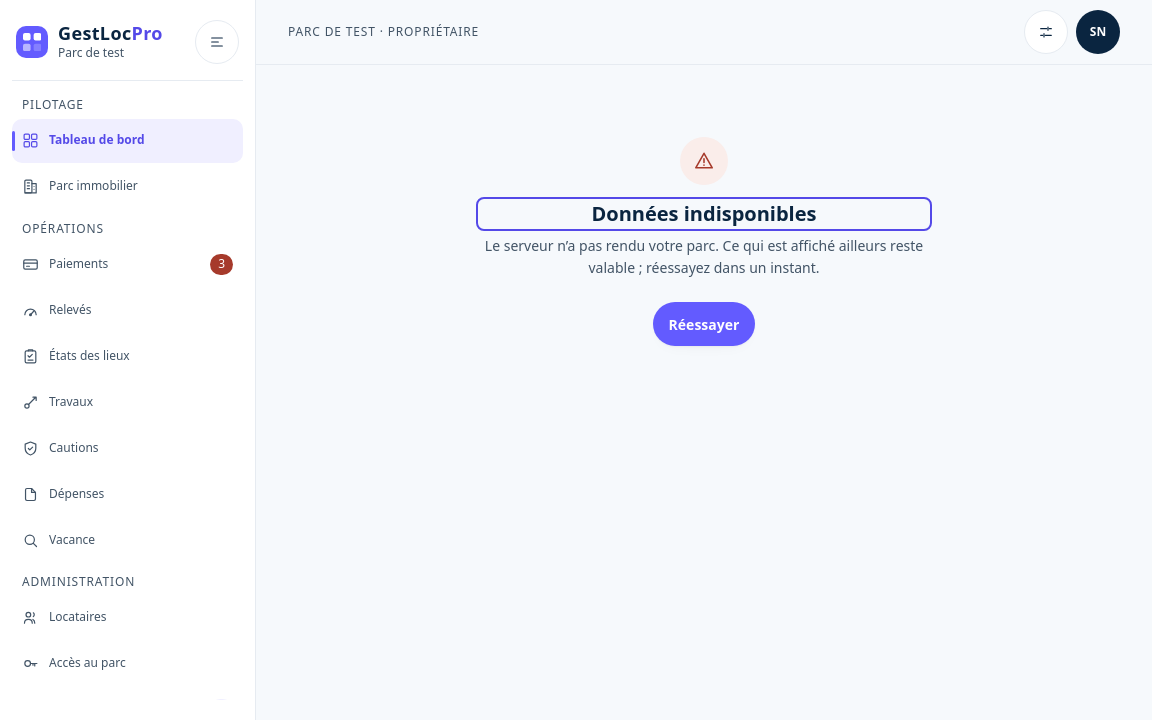
un échec pendant l’usage a un état terminal › la reprise RELANCE une vraie lecture, et aboutit
Expected: the heading "Données indisponibles" is shown, [592,200,816,227]
Click the button "Réessayer" at (704, 324), box [653,302,755,346]
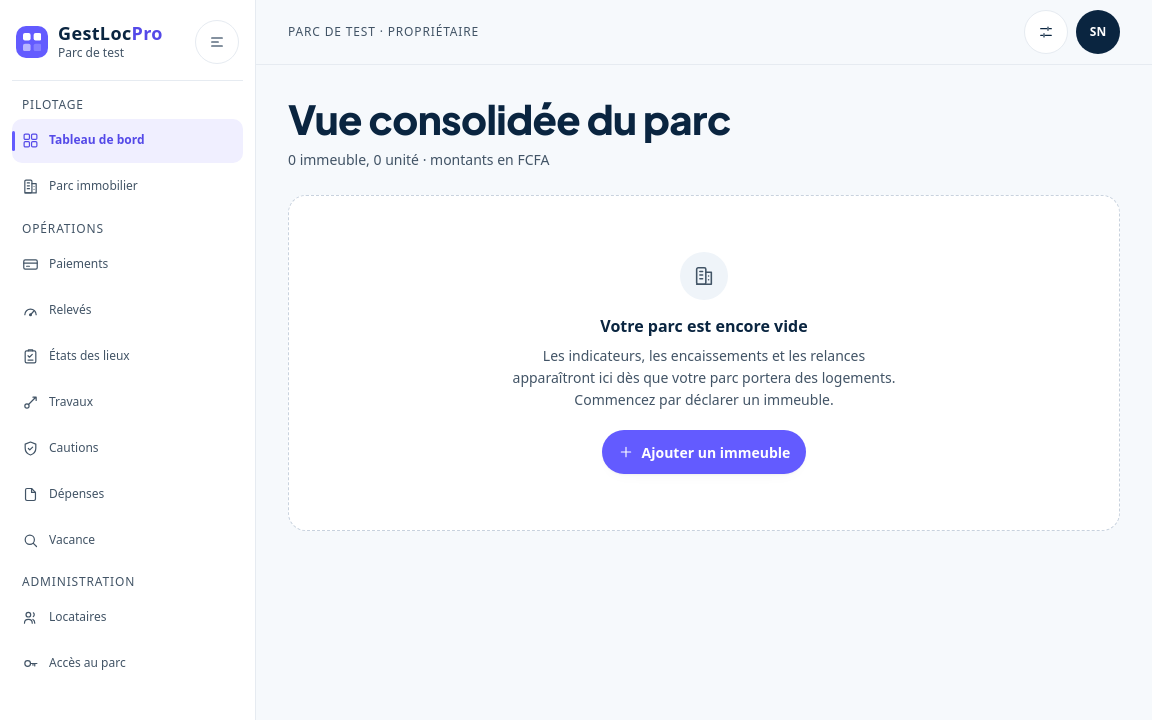
Expected: the heading "Vue consolidée du parc" is shown, [288,93,731,144]
